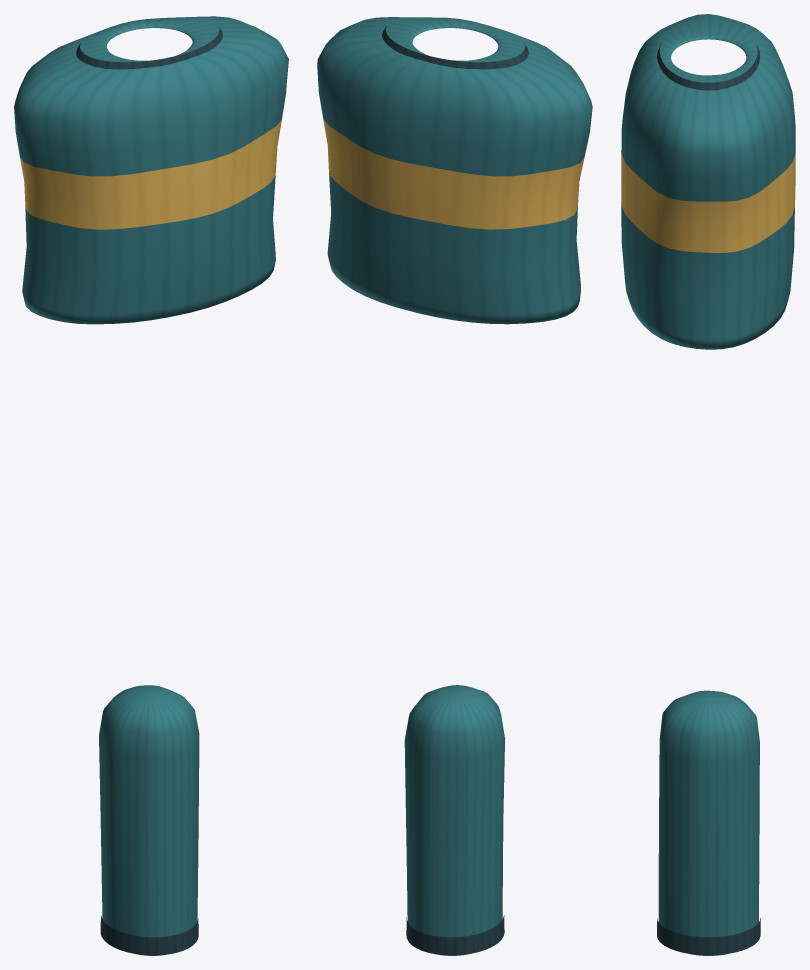
Rendered from harbor_rugby.gltf.
3 renders of one model, left to right at view 1: azimuth 30°, elevation 25°; view 2: azimuth 150°, elevation 25°; view 3: azimuth 270°, elevation 25°, orthographic.
Parts seen in each view (by area): view 1: Torso, SleeveL; view 2: Torso, SleeveL; view 3: Torso, SleeveL.
Boxes of the visible parts, x1=… form: Torso: x1=14, y1=16, x2=288, y2=324; SleeveL: x1=99, y1=685, x2=199, y2=955; Torso: x1=317, y1=17, x2=592, y2=324; SleeveL: x1=404, y1=685, x2=504, y2=955; Torso: x1=621, y1=14, x2=795, y2=349; SleeveL: x1=657, y1=690, x2=760, y2=955.
Size of the model in its own units: 0.5276 by 1.74 by 0.3097.
3 materials, 3 textured.
